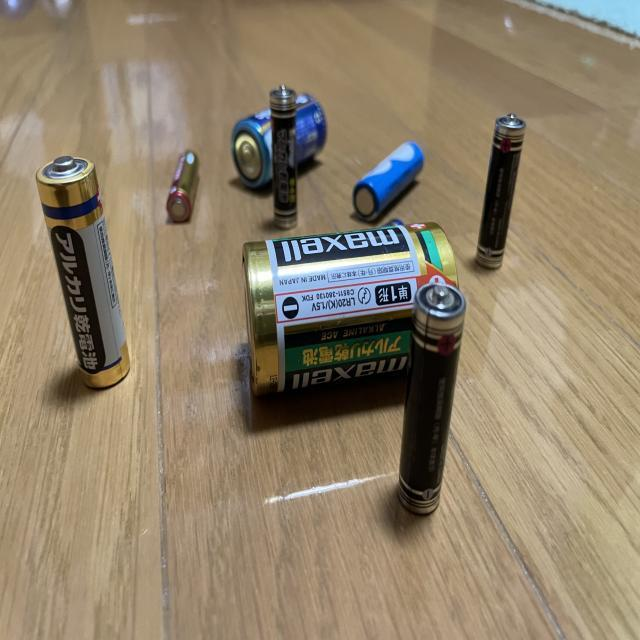battery: (240, 219, 462, 407), (38, 151, 134, 391), (392, 283, 469, 519), (225, 90, 329, 188), (475, 109, 530, 268), (348, 139, 427, 227), (268, 84, 305, 227), (166, 140, 202, 227)
